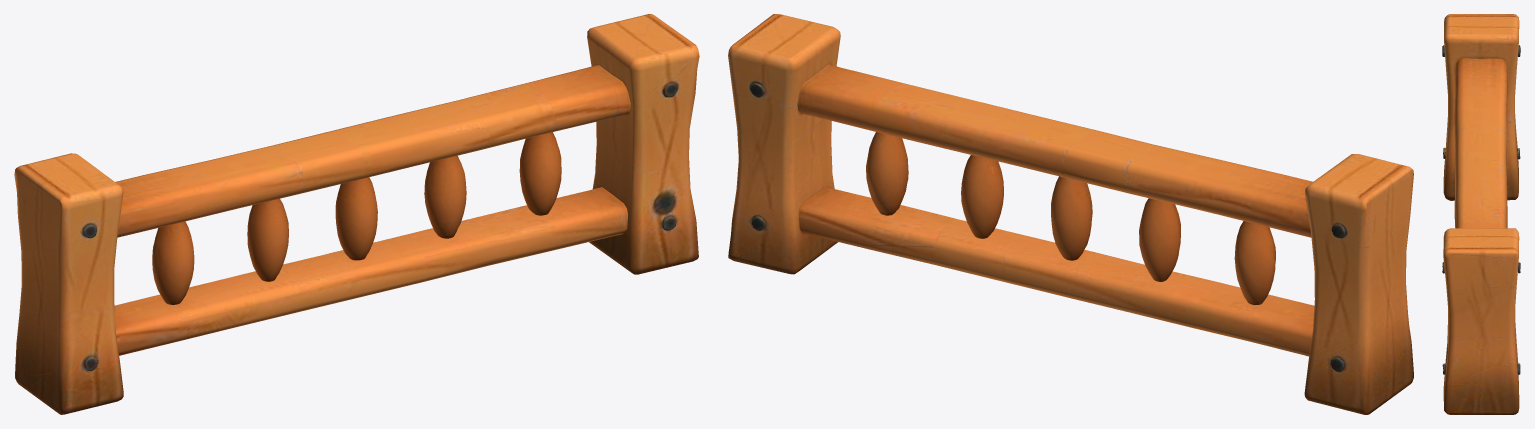
The model's file is loft_rail.glb.
3 renders of one model, left to right at view 1: azimuth 30°, elevation 25°; view 2: azimuth 150°, elevation 25°; view 3: azimuth 270°, elevation 25°, orthographic. The views are drawn at different scales.
Size of the model in its own units: 1 by 0.3268 by 0.1397.
Materials: 1 (1 with a texture image).
